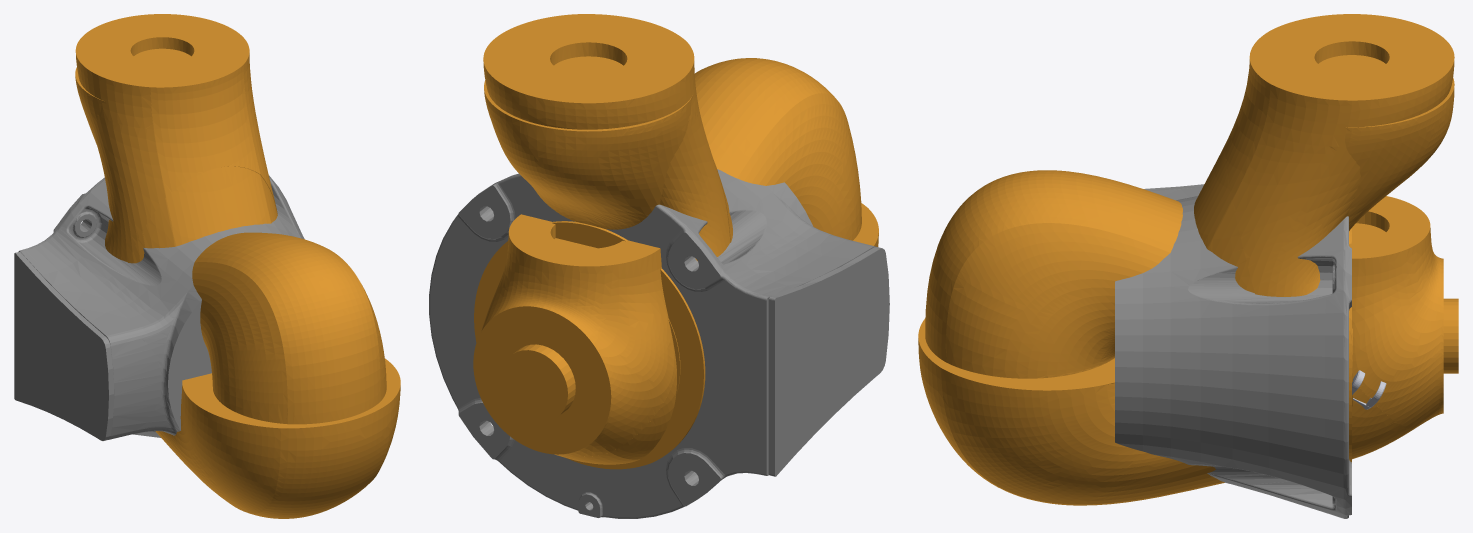
File: robot.glb
The picture shows the model from 3 angles, left to right: view 1: azimuth 30°, elevation 25°; view 2: azimuth 150°, elevation 25°; view 3: azimuth 270°, elevation 25°; orthographic projection. The views are drawn at different scales.
Visible parts, largest first — view 1: iiwa14_link_2, iiwa14_link_0, iiwa14_link_3, iiwa14_link_1, iiwa14_link_4; view 2: iiwa14_link_0, iiwa14_link_6, iiwa14_link_2, iiwa14_link_3, iiwa14_link_4, iiwa14_link_1; view 3: iiwa14_link_0, iiwa14_link_2, iiwa14_link_3, iiwa14_link_1, iiwa14_link_6, iiwa14_link_4.
Boxes of the visible parts, x1,y1,x2,y2 form: iiwa14_link_2: (75,14,277,263); iiwa14_link_0: (14,175,304,440); iiwa14_link_3: (192,232,386,424); iiwa14_link_1: (155,358,400,518); iiwa14_link_4: (75,67,106,144); iiwa14_link_0: (429,169,889,518); iiwa14_link_6: (473,214,676,464); iiwa14_link_2: (474,14,732,469); iiwa14_link_3: (695,58,861,240); iiwa14_link_4: (484,80,693,396); iiwa14_link_1: (474,203,878,469); iiwa14_link_0: (1115,184,1351,518); iiwa14_link_2: (1194,14,1454,462); iiwa14_link_3: (925,170,1182,378); iiwa14_link_1: (918,318,1224,505); iiwa14_link_6: (1349,196,1458,459); iiwa14_link_4: (1344,77,1454,406).
Size of the model in its own units: 0.2572 by 0.3259 by 0.3587.
